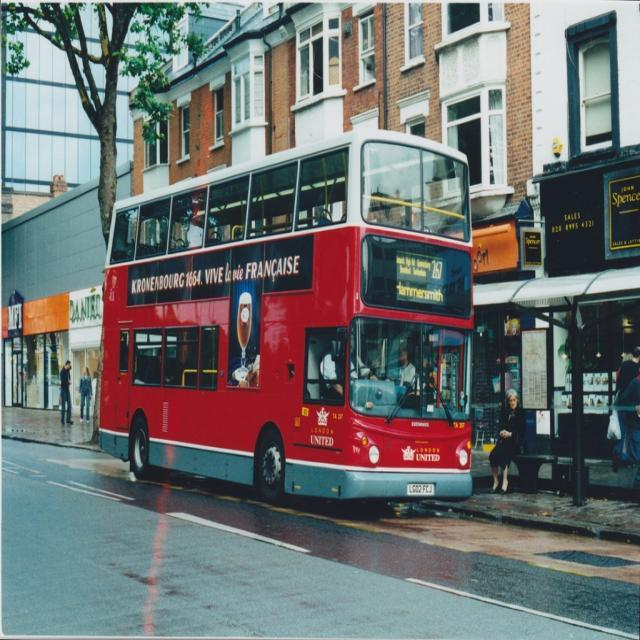motorcycle: (98, 124, 473, 508)
